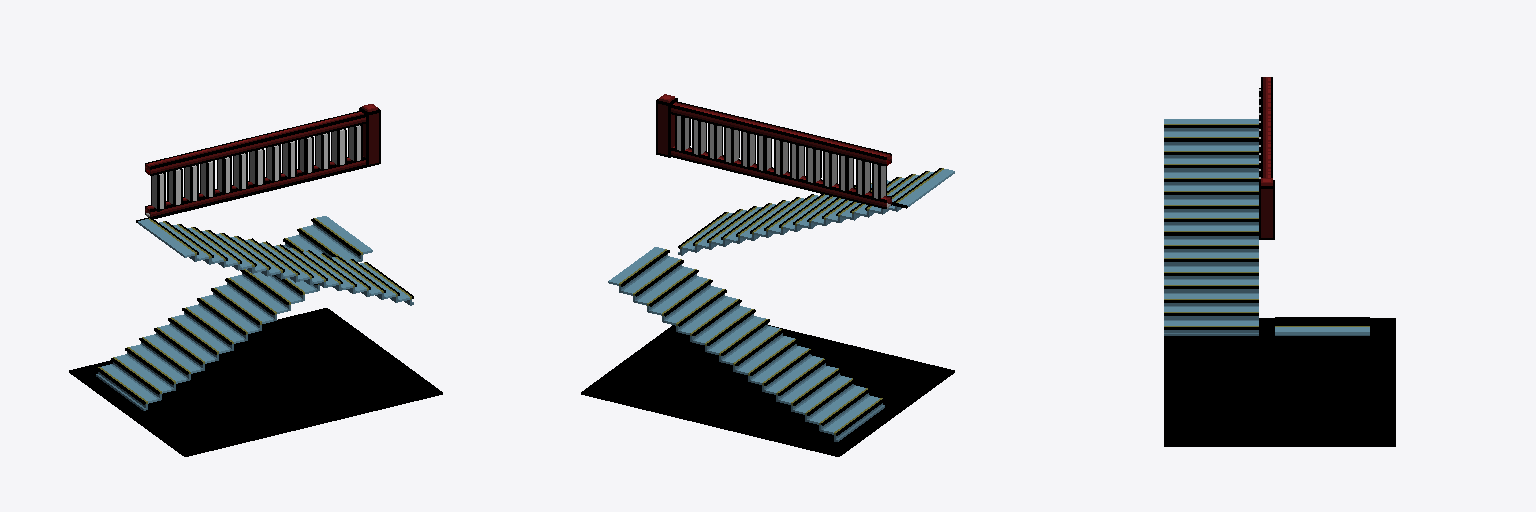
The picture shows the model from 3 angles: view 1: azimuth 30°, elevation 25°; view 2: azimuth 150°, elevation 25°; view 3: azimuth 270°, elevation 25°; orthographic projection.
Visible parts, largest first — view 1: PlayerStairsP4.001; view 2: PlayerStairsP4.001; view 3: PlayerStairsP4.001.
Part boxes in pixels (x1,y1,x2,y2): PlayerStairsP4.001: (69,104,442,456); PlayerStairsP4.001: (581,94,954,456); PlayerStairsP4.001: (1164,77,1395,446).
Size of the model in its own units: 12.6 by 11.9 by 9.8.
1 materials, 1 textured.